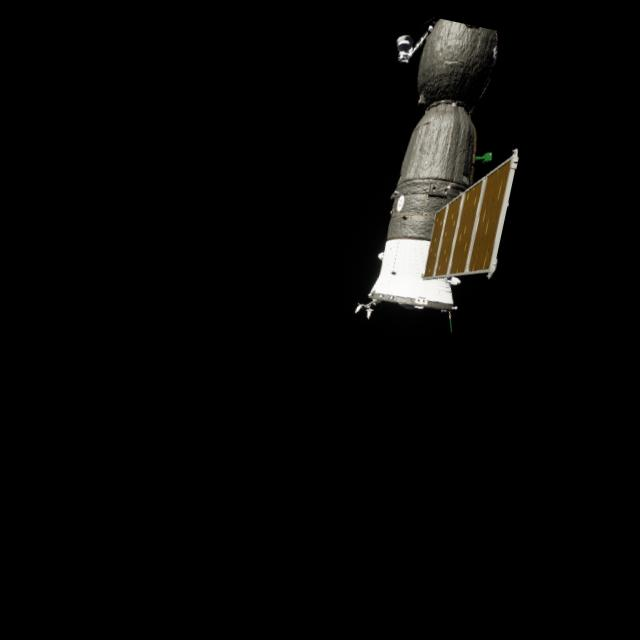Satellites revolving around earth: (335, 11, 546, 347)
